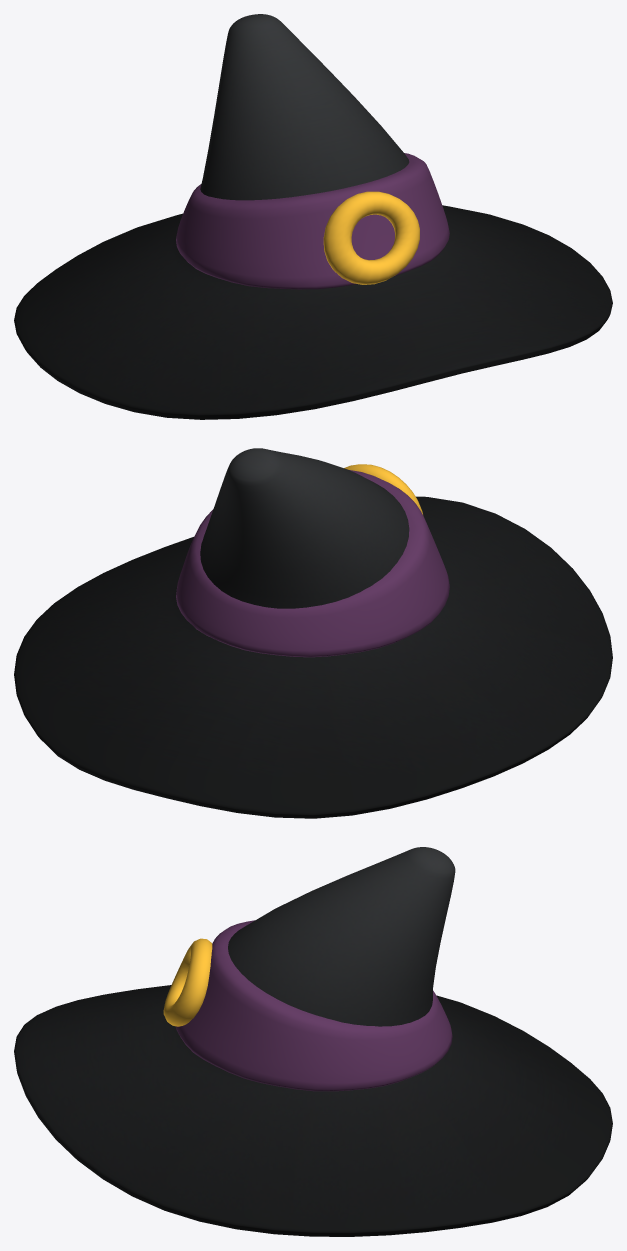
The model's file is wizhat.glb.
3 renders of one model, top to bottom at view 1: azimuth 30°, elevation 25°; view 2: azimuth 150°, elevation 25°; view 3: azimuth 270°, elevation 25°, orthographic.
Visible parts, largest first — view 1: Cylinder001, Cylinder002, Torus001; view 2: Cylinder001, Cylinder002, Torus001; view 3: Cylinder001, Cylinder002, Torus001.
Part boxes in pixels (x1=…): Cylinder001: x1=14, y1=14, x2=612, y2=419; Cylinder002: x1=176, y1=153, x2=449, y2=289; Torus001: x1=323, y1=191, x2=419, y2=284; Cylinder001: x1=14, y1=448, x2=612, y2=818; Cylinder002: x1=176, y1=470, x2=449, y2=657; Torus001: x1=344, y1=464, x2=422, y2=514; Cylinder001: x1=14, y1=847, x2=612, y2=1236; Cylinder002: x1=175, y1=920, x2=452, y2=1091; Torus001: x1=163, y1=938, x2=212, y2=1026.
Bounding box in the file's own units: 2.57 × 1.34 × 2.57.
3 materials, 1 textured.
